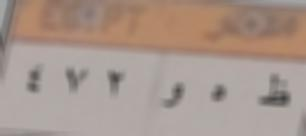2: (102, 65, 131, 104)
4: (22, 61, 46, 98)
7: (63, 60, 90, 97)
Thaa: (250, 68, 293, 110)
haa: (201, 78, 232, 110)
waw: (158, 75, 188, 115)
